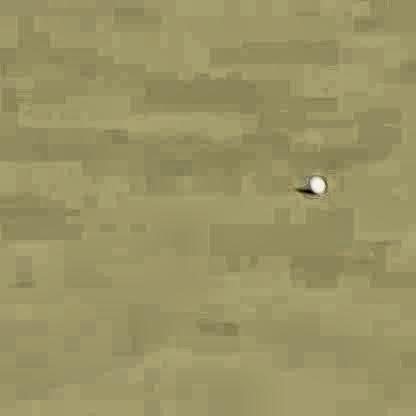golfball: (303, 173, 325, 192)
